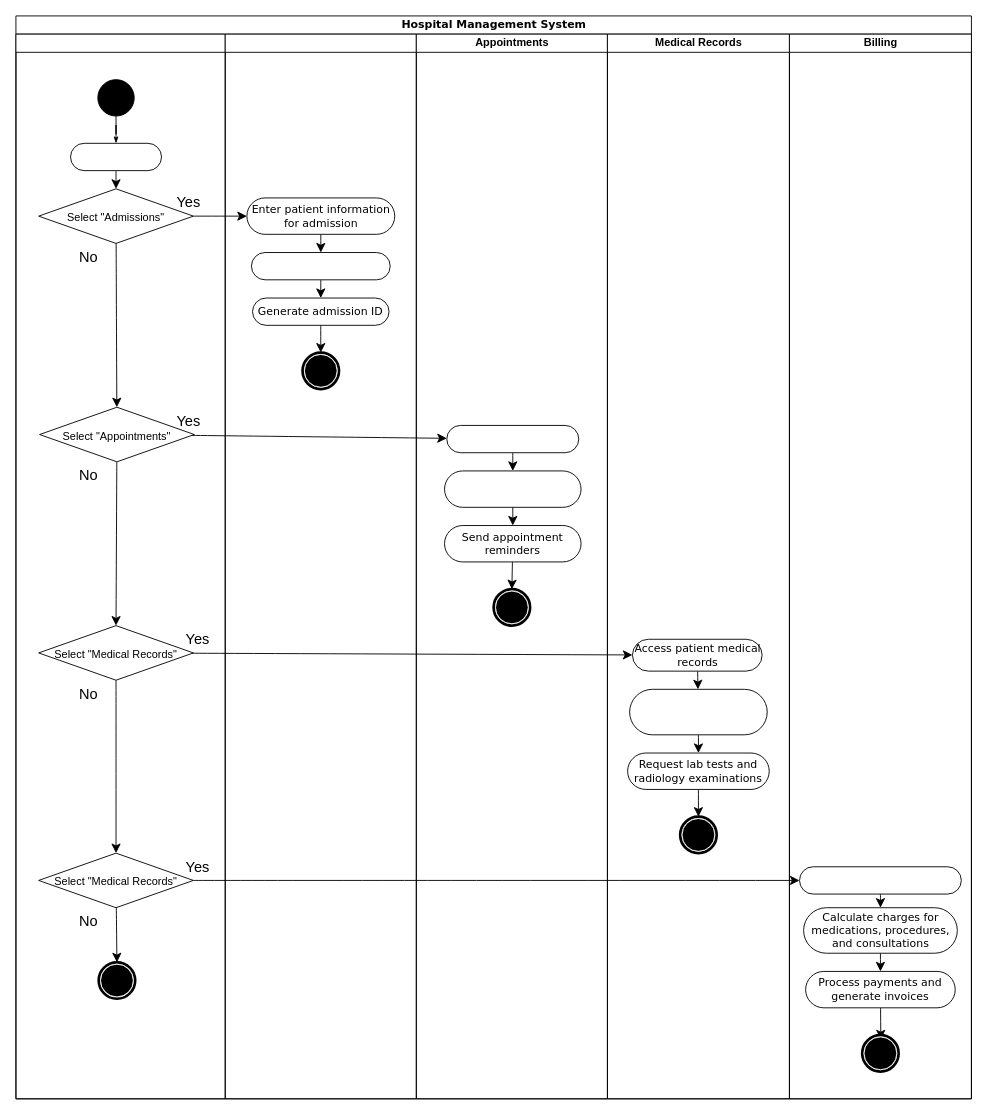
Some shapes in this 987 by 1115 pixel diagram are drawn without their labels. Each missing label, with the box of its shape:
Admissions: (224, 33, 416, 1099)
Assign a room or bed to patient: (251, 252, 390, 280)
Check the availability of doctors: (446, 425, 579, 453)
Create bills for patients based on services provided: (799, 866, 961, 894)
Hospital staff: (15, 33, 225, 1099)
Login: (70, 142, 162, 171)
Schedule appointments for patients: (444, 470, 581, 507)
Update medical history, diagnoses, and treatment plans: (629, 688, 767, 735)
